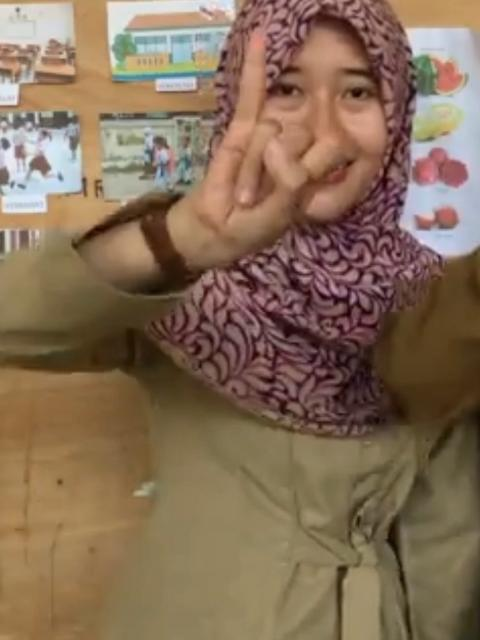I: (200, 21, 342, 242)
